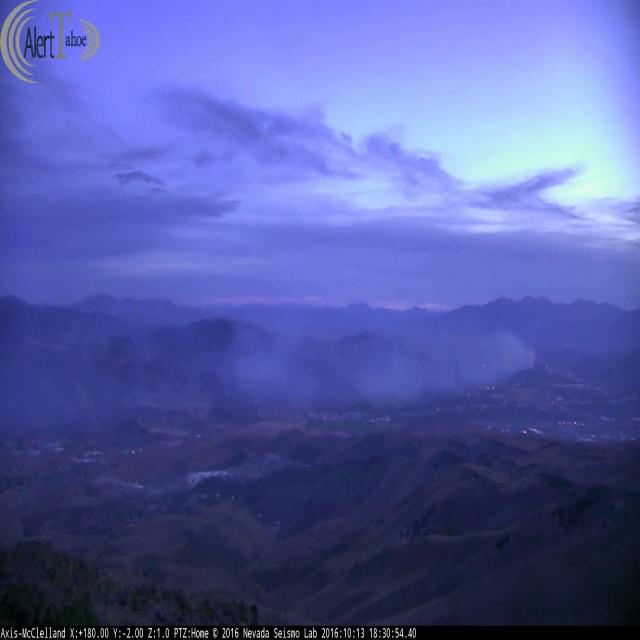smoke: (0, 295, 540, 433)
